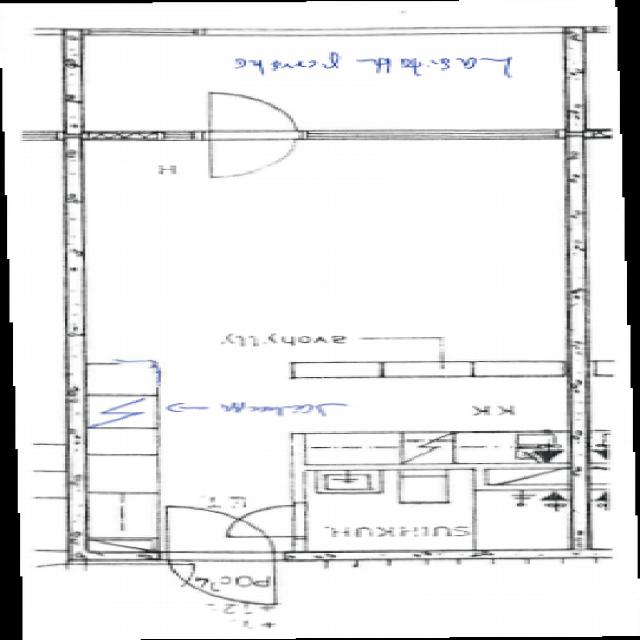door: (167, 549, 274, 607), (167, 501, 274, 558), (209, 131, 297, 179), (209, 91, 297, 139), (224, 504, 305, 536)
